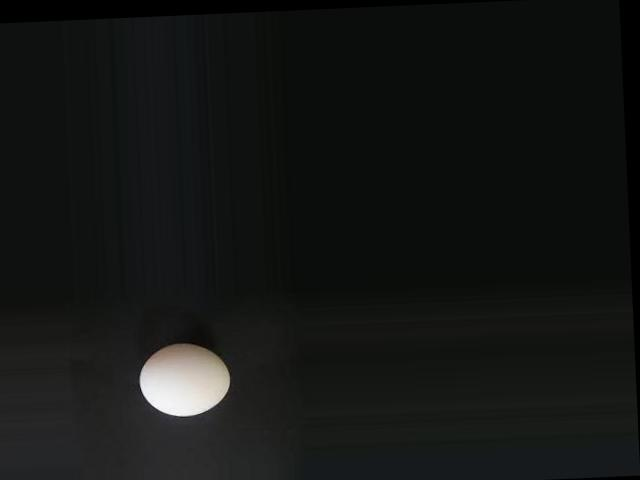egg: (140, 342, 232, 418)
